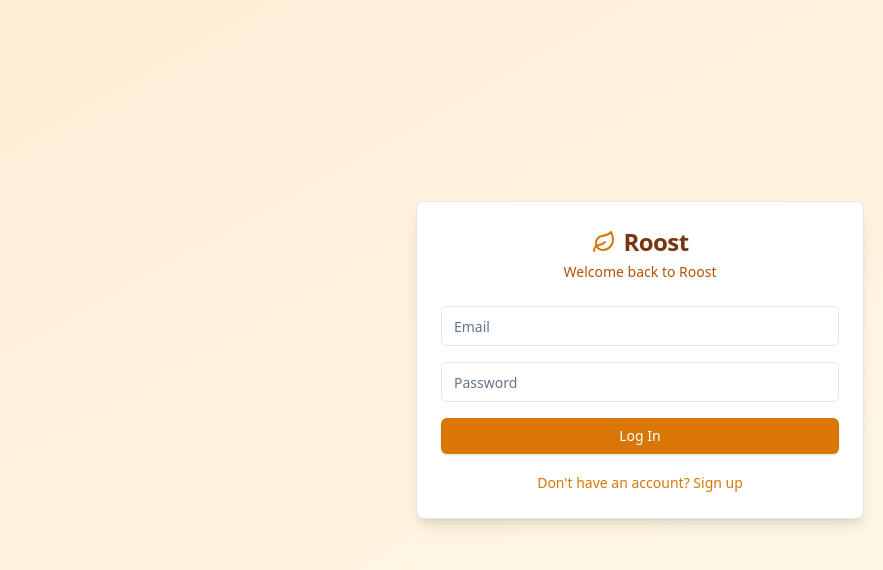
Scenario: LoginPage › should show validation errors for empty form submission
Click the button "Log In". click: coordinates (640, 436)
box: [441,418,839,454]
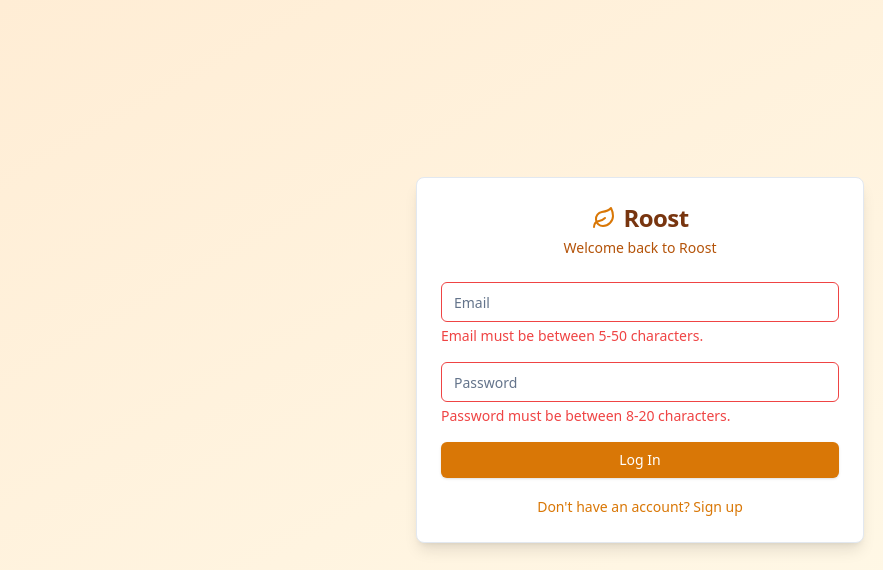
Check: the text "Email must be between 5-50 characters." is shown, box [441,326,703,345]
Check: the text "Password must be between 8-20 characters." is shown, box [441,406,731,425]
